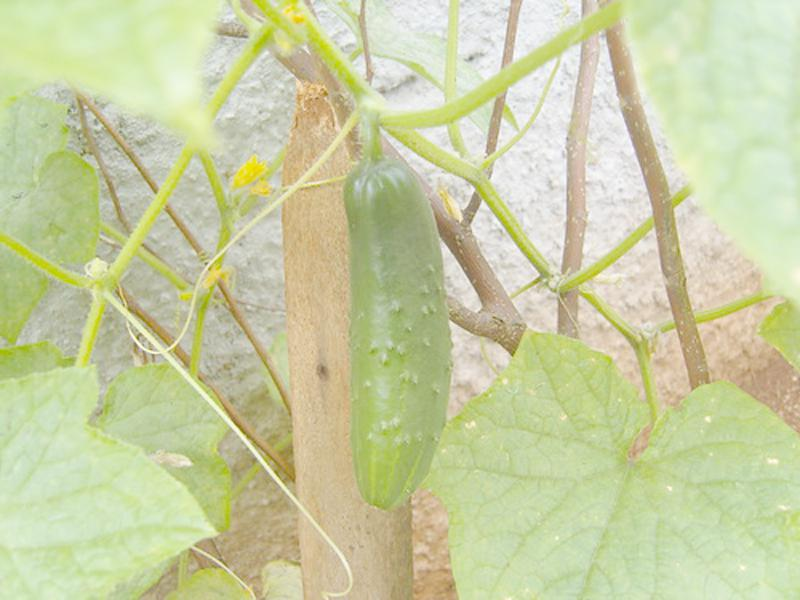Cucumber: (341, 155, 452, 510)
